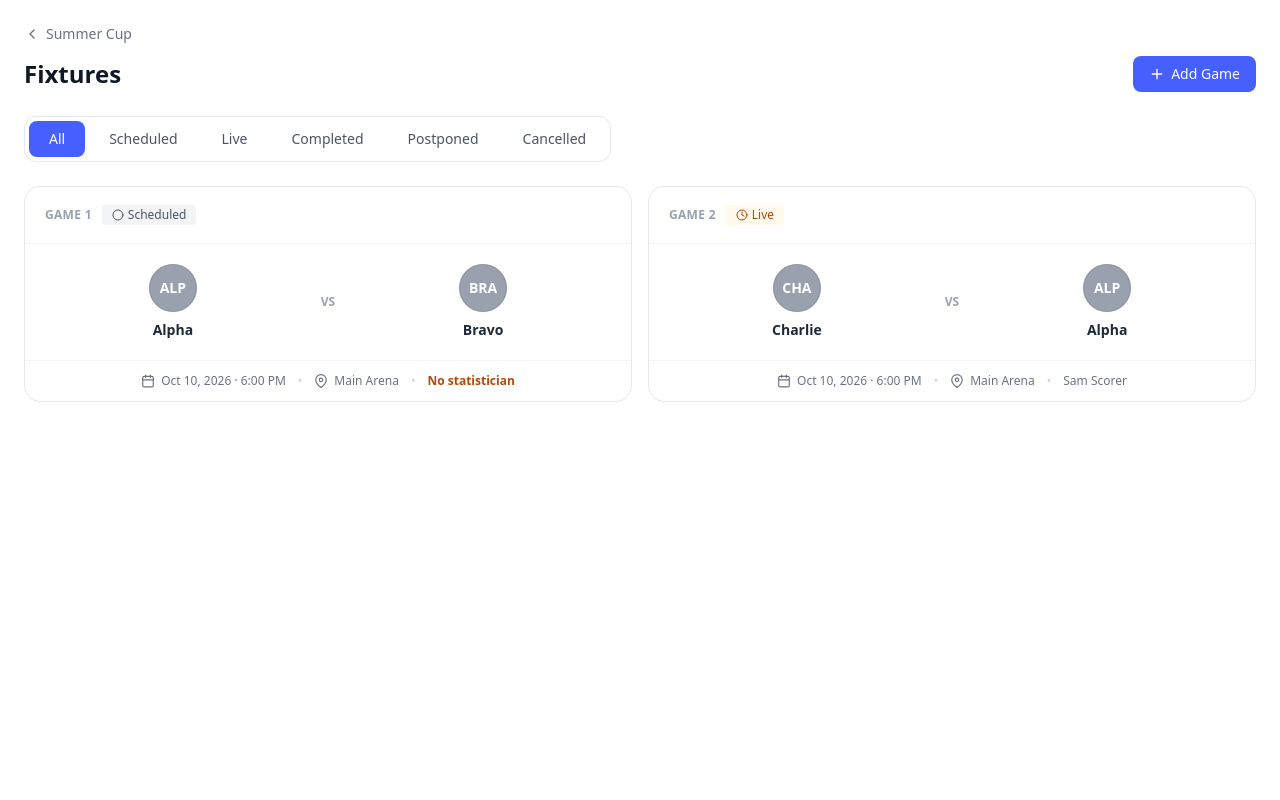
Scenario: Fixtures: create › blocks a fixture with the same team on both sides
Step 1. Click the button "Add Game" → (1195, 74), box x1=1133 y1=56 x2=1256 y2=92
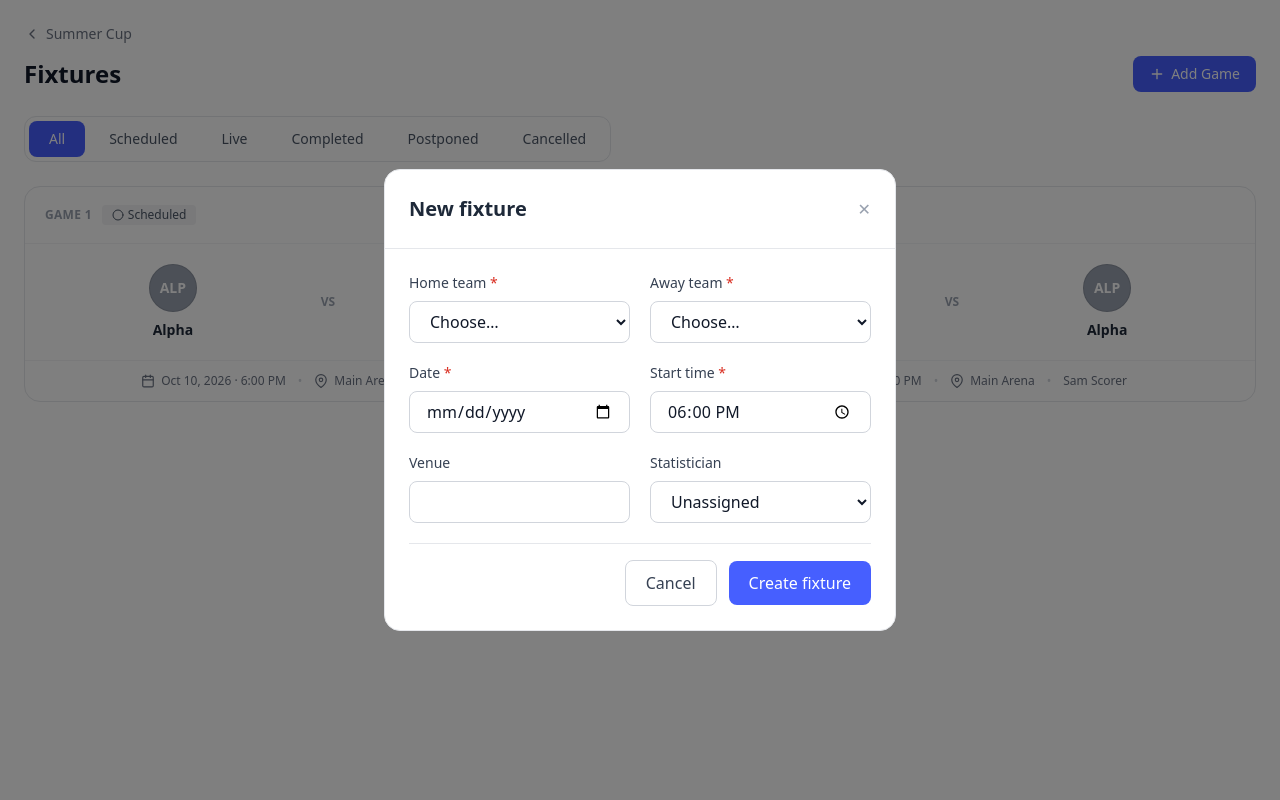
Step 2. Select "Alpha" in the dropdown labelled "Home team *" → (520, 322), box x1=409 y1=301 x2=630 y2=343
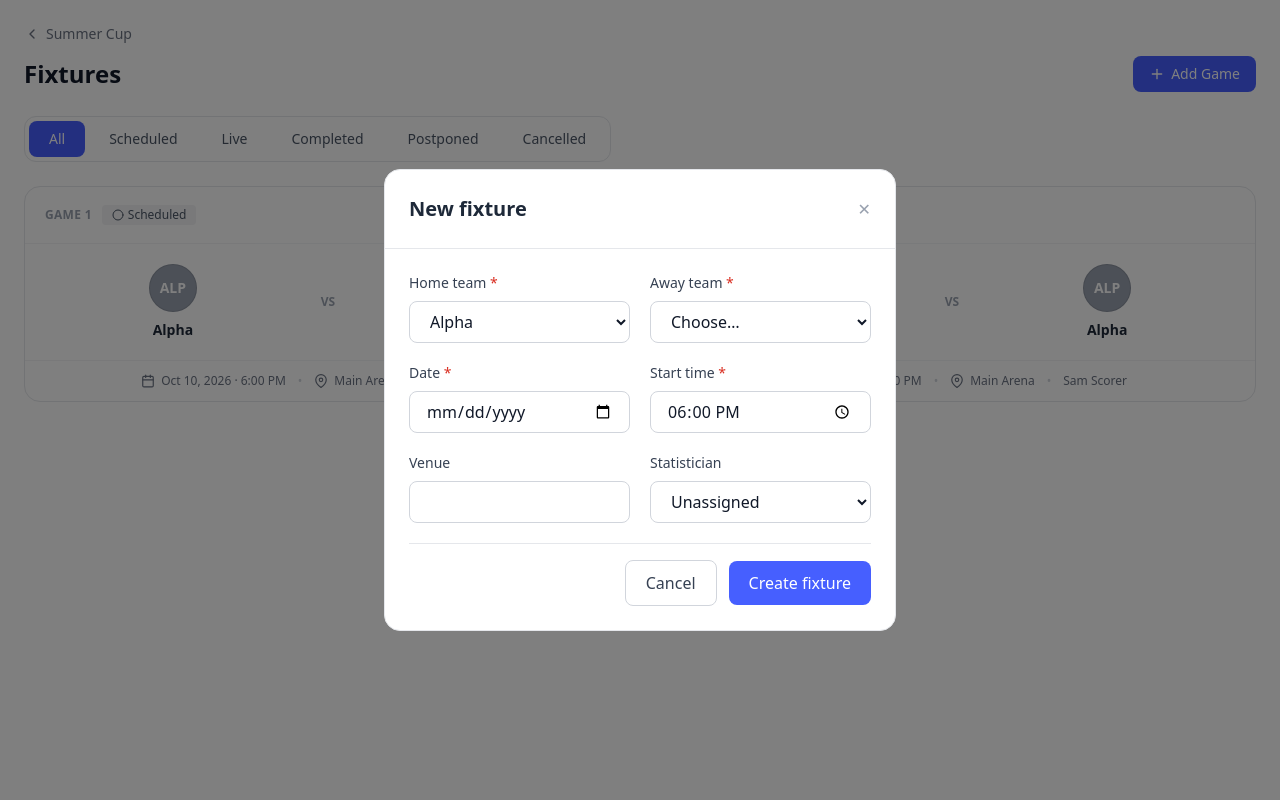
Step 3. Select "Alpha" in the dropdown labelled "Away team *" → (760, 322), box x1=650 y1=301 x2=871 y2=343
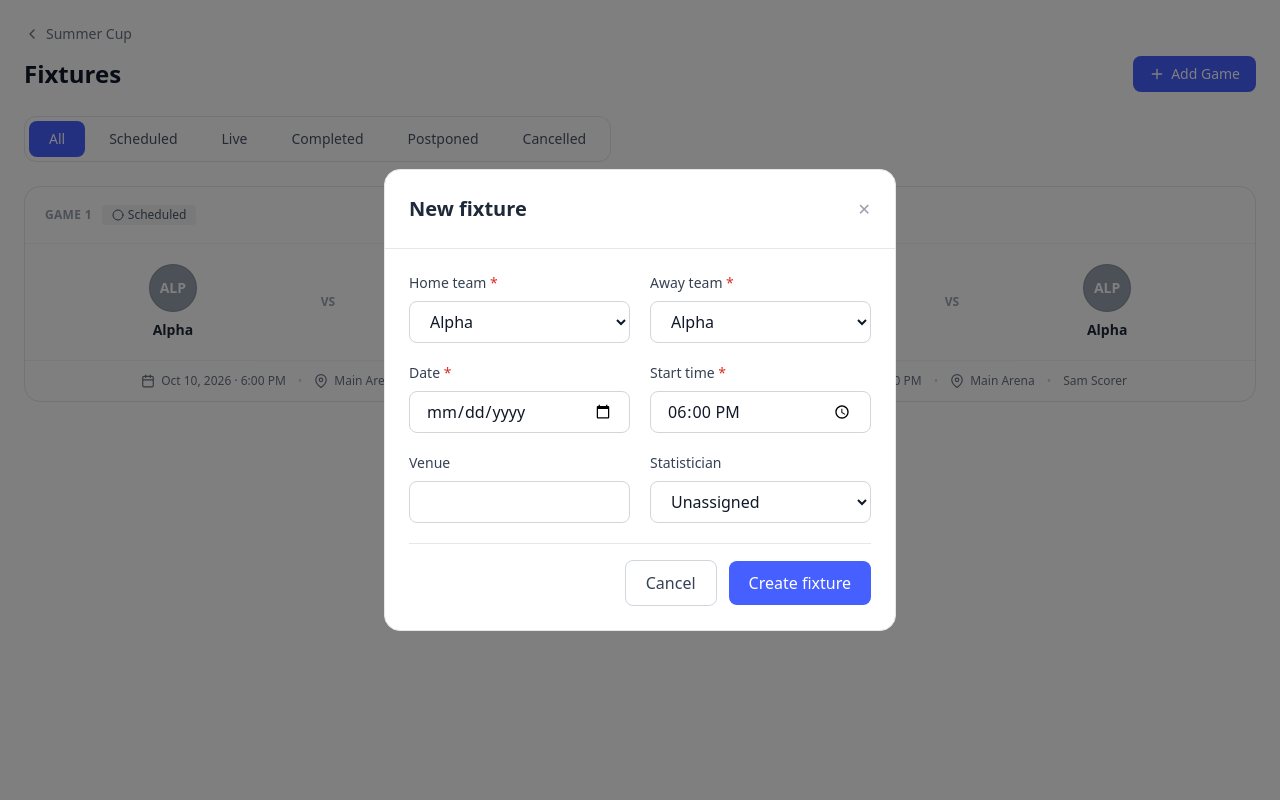
Step 4. Type "2026-10-10" into the date field labelled "Date *" → (520, 412), box x1=409 y1=391 x2=630 y2=433
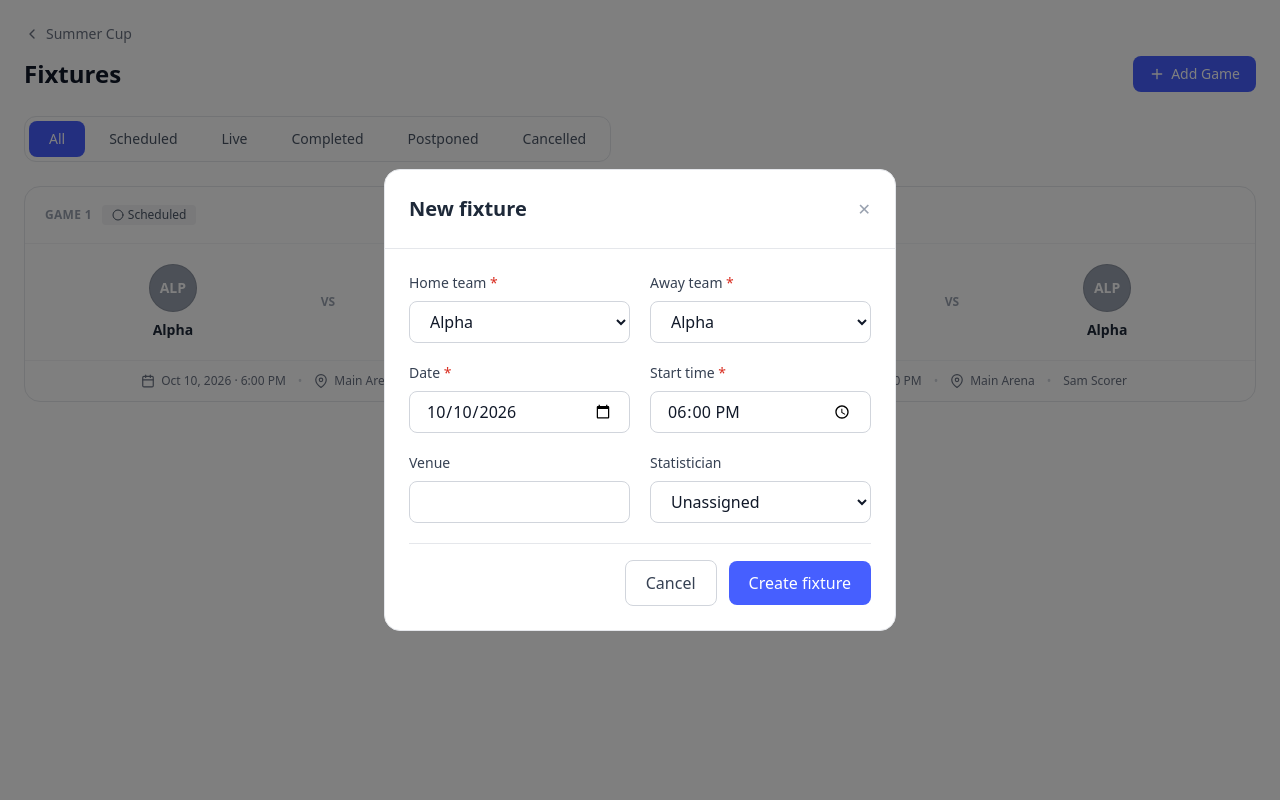
Step 5. Click the button "Create fixture" → (800, 583), box x1=729 y1=561 x2=871 y2=605
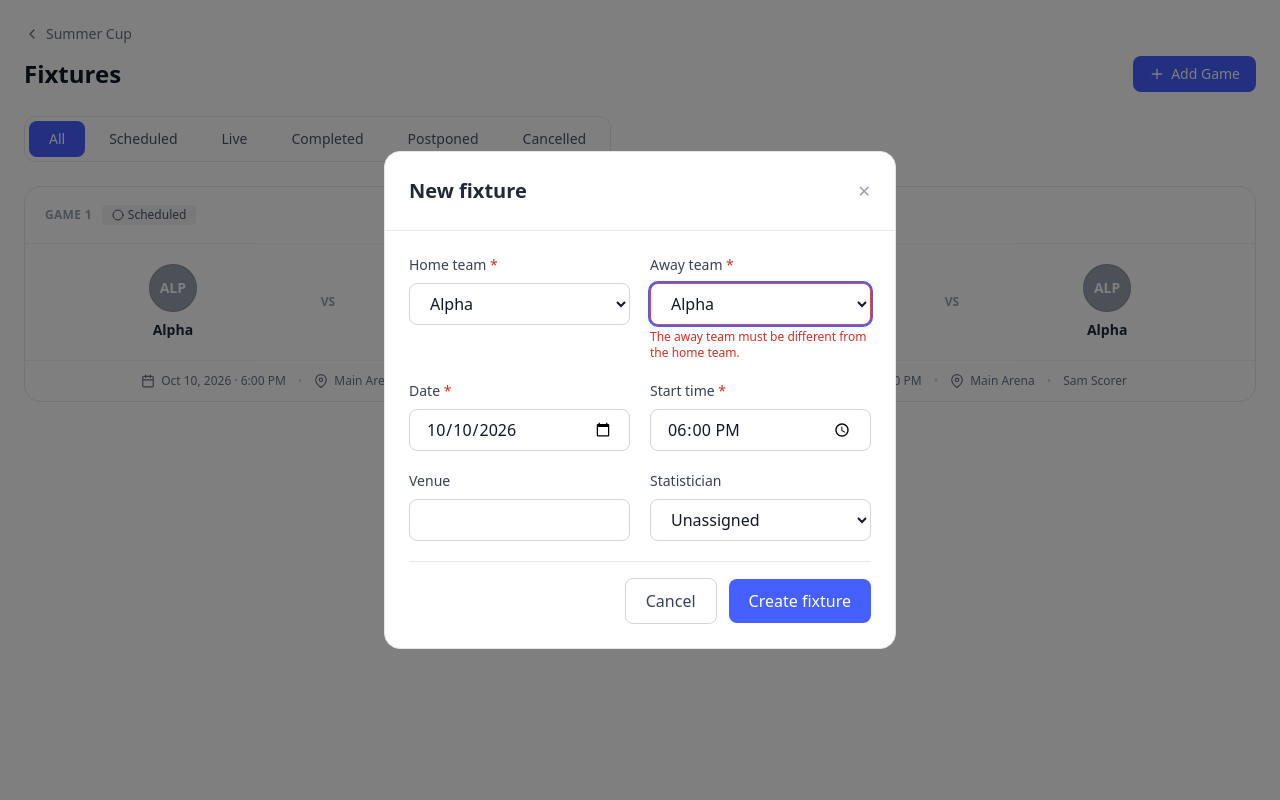
Check: the text "The away team must be different from the home team." is shown, box x1=650 y1=329 x2=871 y2=361
